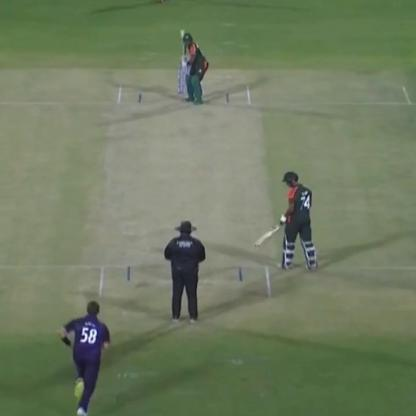bat: (170, 19, 192, 74), (247, 224, 282, 252)
pitch: (95, 78, 280, 310)
